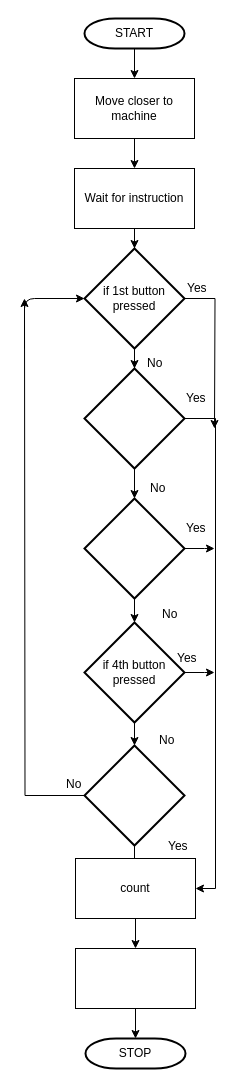
Some shapes in this 243 by 1086 pixel diagram are drawn without their labels. Here are the shapes that lost their labels. From the top down, the centre of each, then its label:
At [134,418]: "if 2nd button pressed".
At [134,548]: "if 3rd button pressed".
At [134,795]: "if 5th button pressed".
At [135,978]: "display data in LCD".
